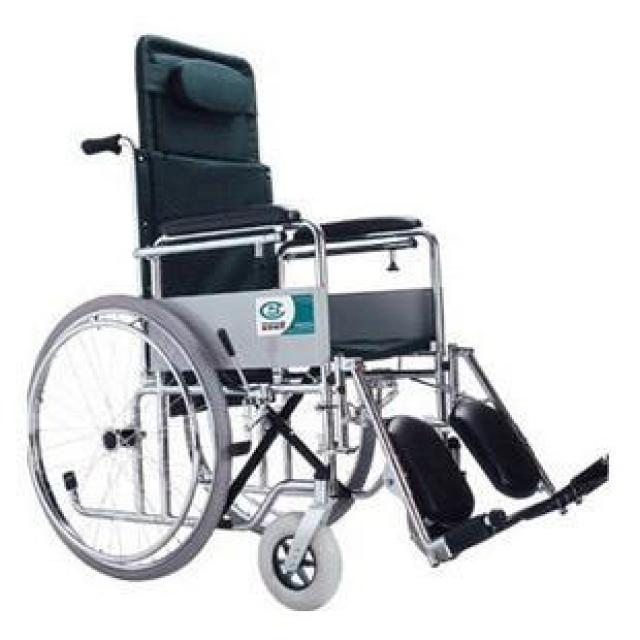wheelchairs: (0, 20, 617, 623)
